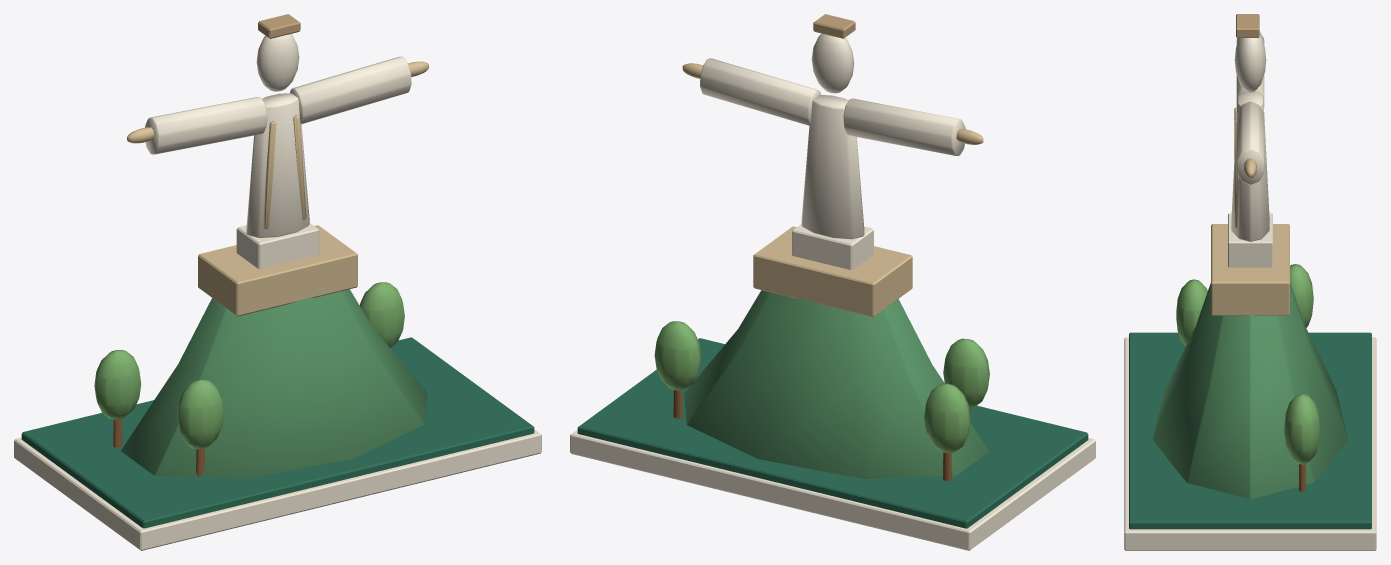
The model's file is christ-the-redeemer.glb.
The picture shows the model from 3 angles, left to right: view 1: azimuth 30°, elevation 25°; view 2: azimuth 150°, elevation 25°; view 3: azimuth 270°, elevation 25°; orthographic projection.
Parts seen in each view (by area): view 1: Christ the Redeemer; view 2: Christ the Redeemer; view 3: Christ the Redeemer.
Boxes of the visible parts, box(x1,y1,x2,y2) form: Christ the Redeemer: box(14, 14, 541, 550); Christ the Redeemer: box(570, 14, 1095, 550); Christ the Redeemer: box(1124, 14, 1376, 550).
Bounding box in the file's own units: 1.47 × 1.53 × 0.8064.
